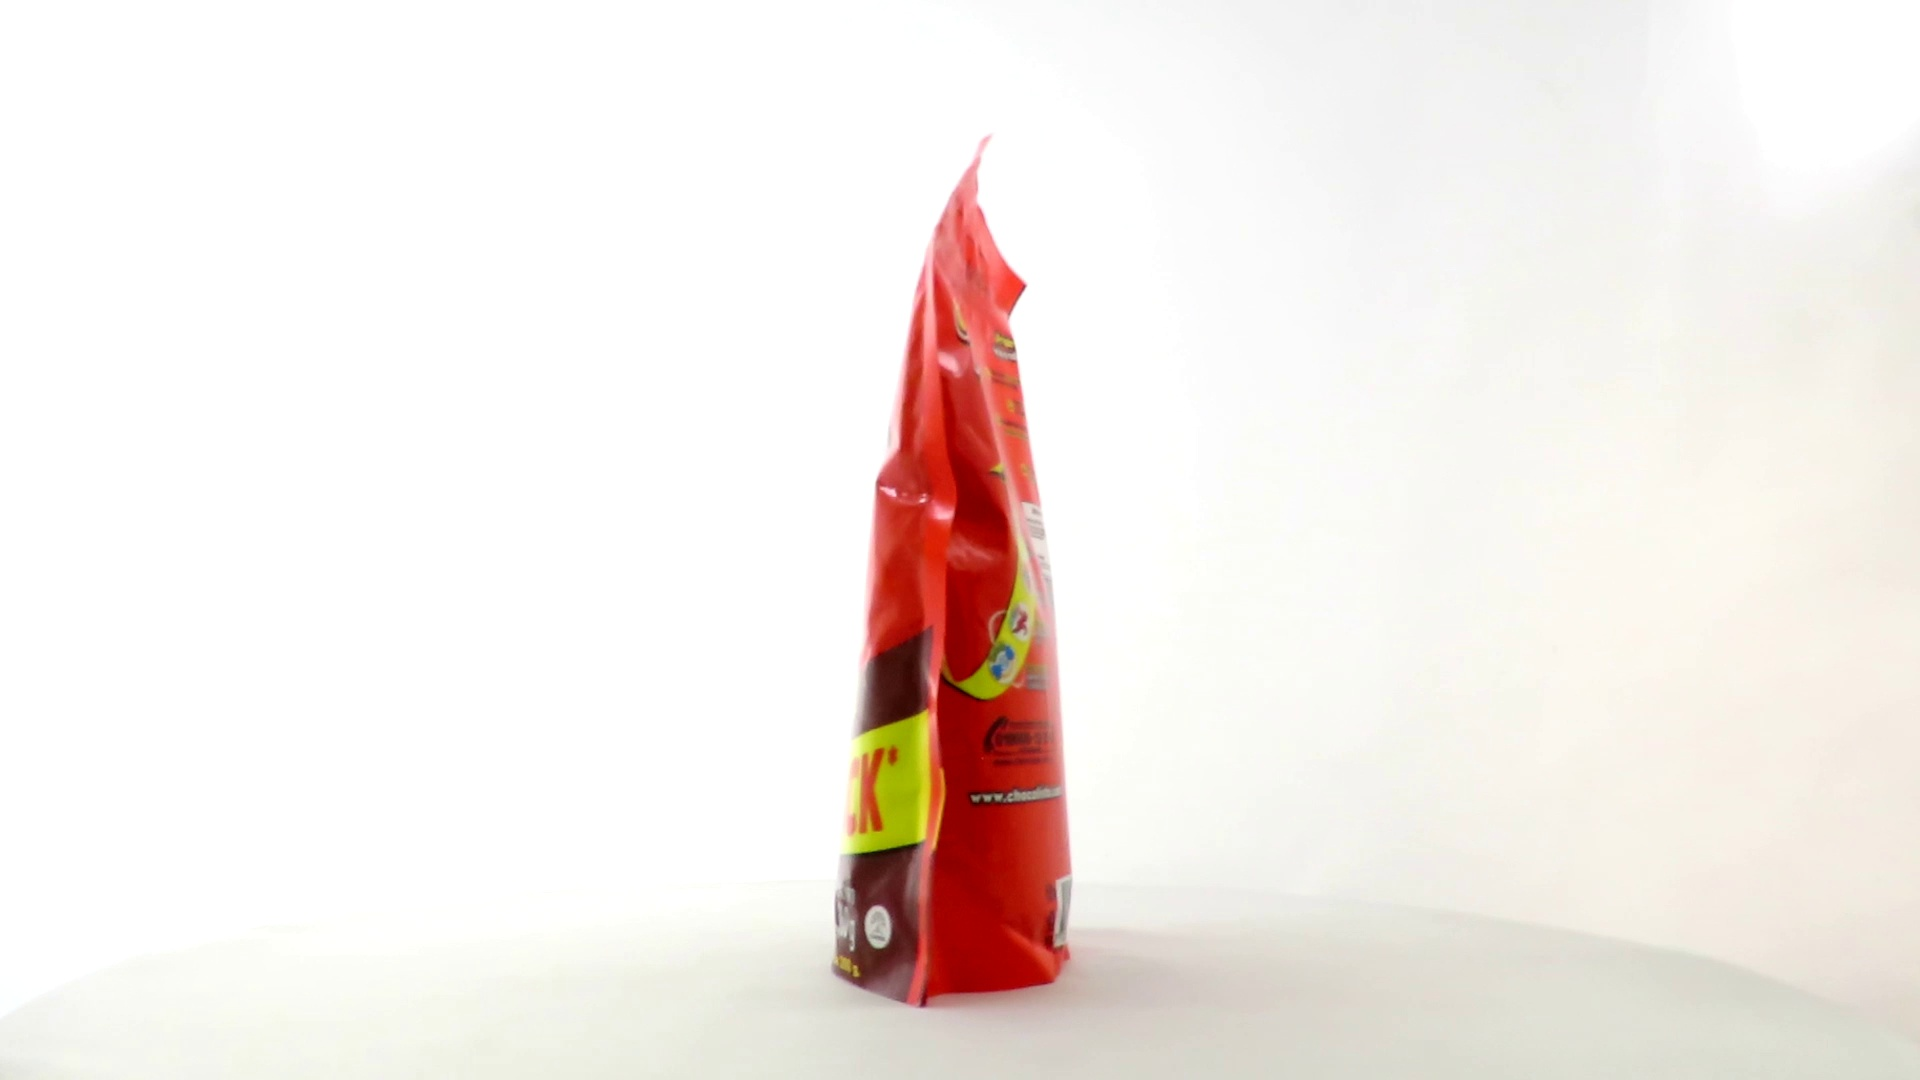COL0170103DYP36000: (731, 128, 1079, 1015)
